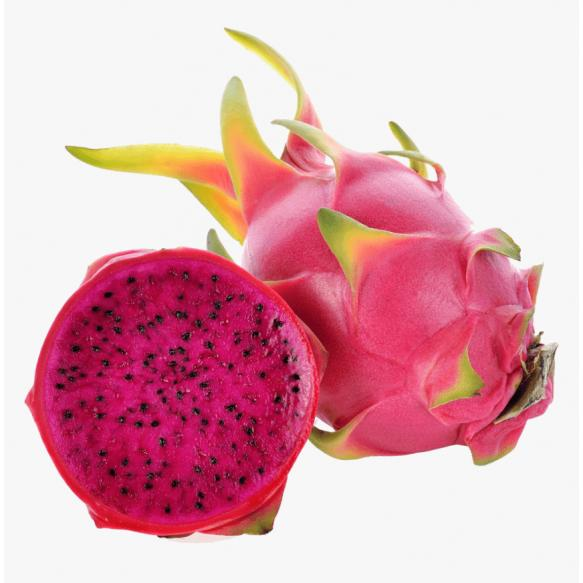dragon-fruit: (228, 23, 538, 446), (25, 243, 325, 538)
